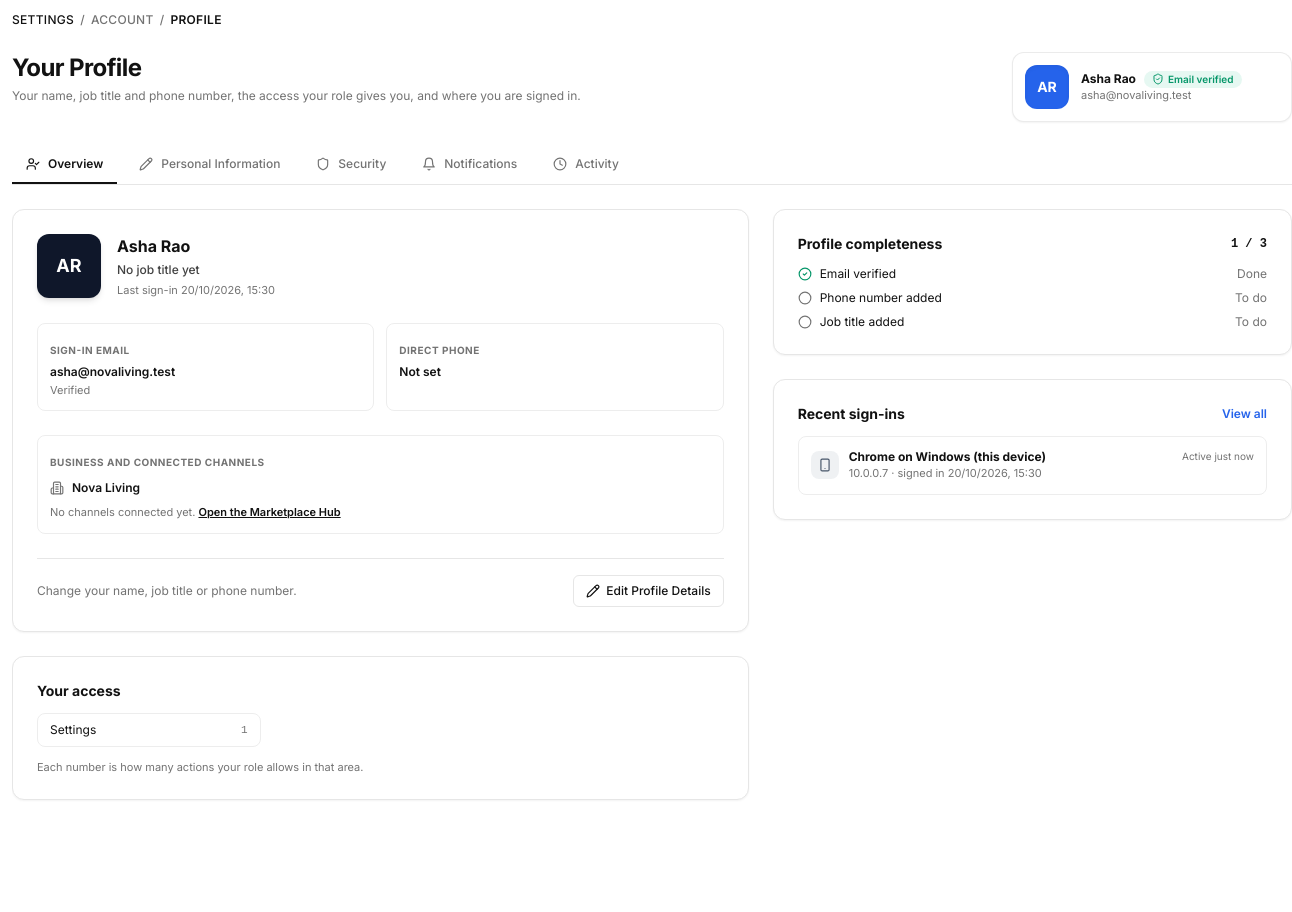
it: ProfileTab › shows the real error when the save fails, and never a success
Step 1. Click the tab "Personal Information" → (210, 165), box [125,146,294,184]
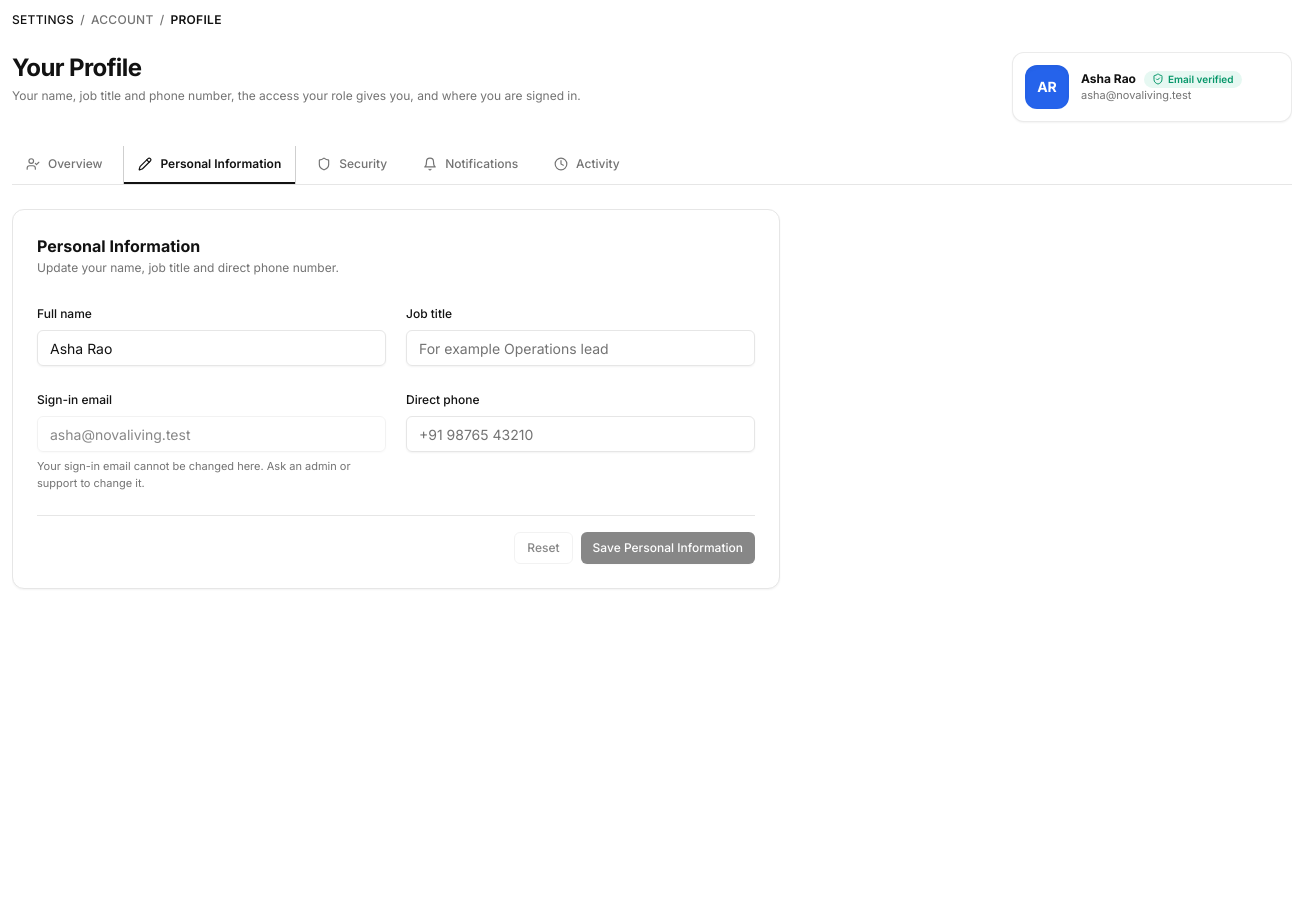
Step 2. Type "Operations lead" into the field labelled "Job title" → (580, 348), box [406,330,755,366]
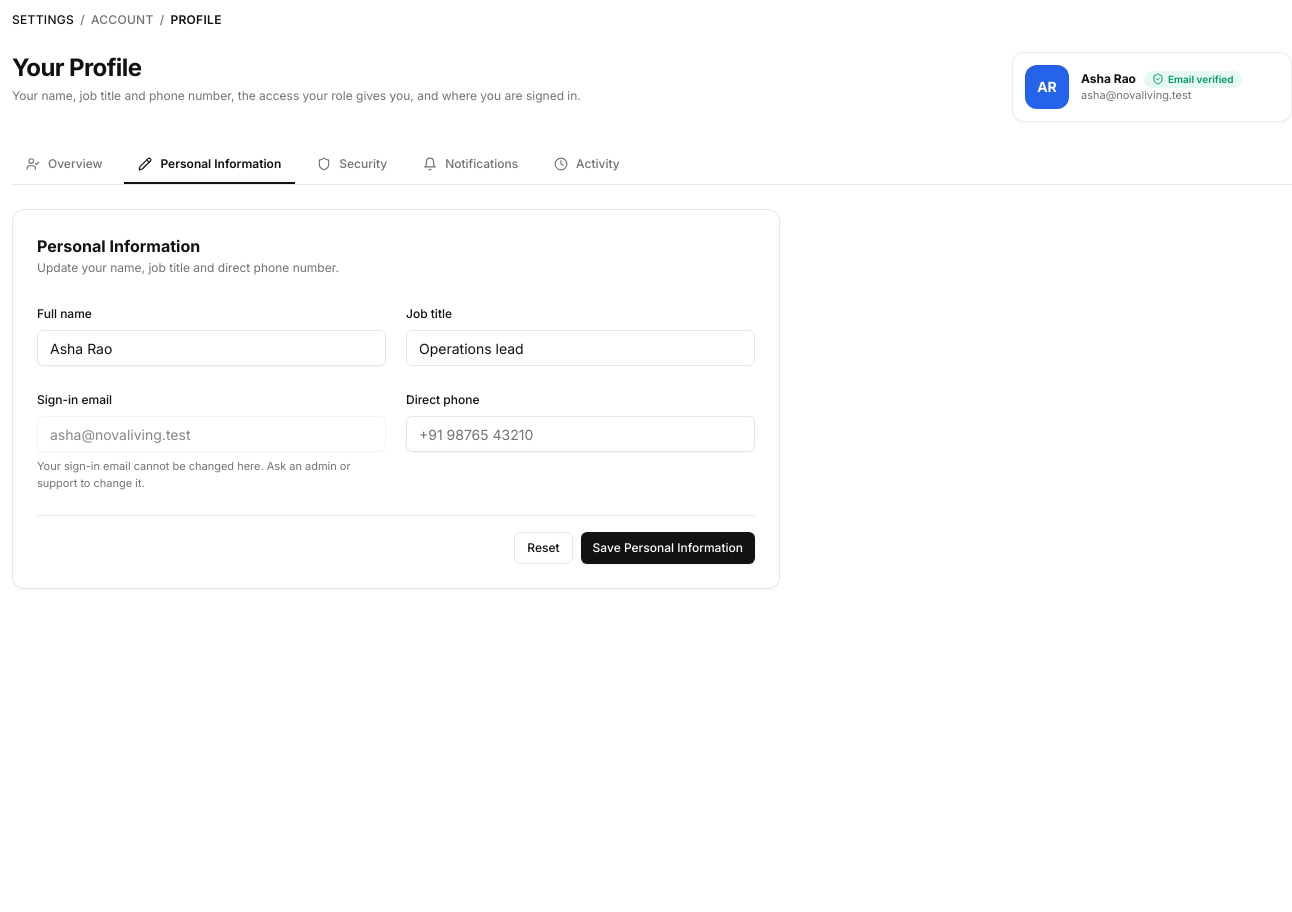
Step 3. Click the button "Save Personal Information" → (668, 548), box [581,532,755,564]
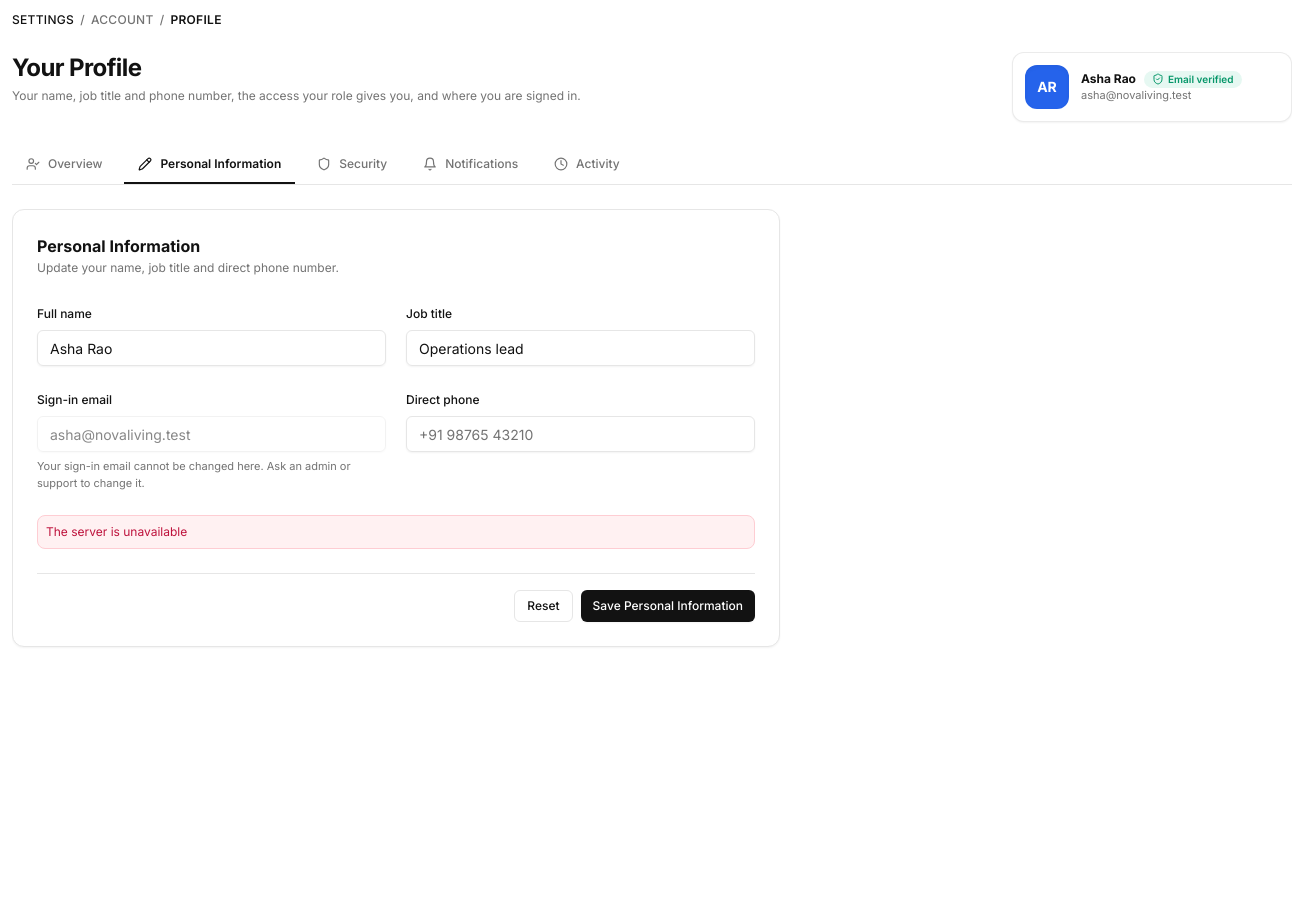
expect the message reads "The server is unavailable": met, box [46,524,187,539]
